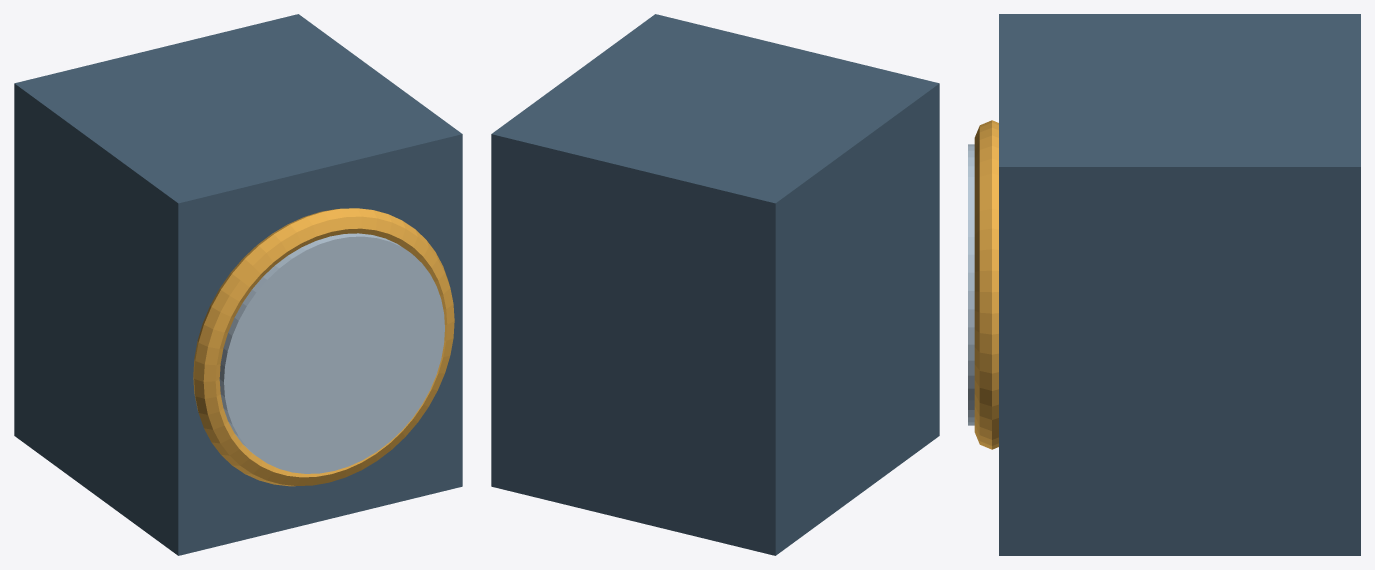
The model's file is 81_L92_VacuumSampleAirlock.fbx.
3 renders of one model, left to right at view 1: azimuth 30°, elevation 25°; view 2: azimuth 150°, elevation 25°; view 3: azimuth 270°, elevation 25°, orthographic. The views are drawn at different scales.
Visible parts, largest first — view 1: L92_VacuumSampleAirlock, L92_VacuumSampleAirlock_Part_0002, L92_VacuumSampleAirlock_Part_0001; view 2: L92_VacuumSampleAirlock; view 3: L92_VacuumSampleAirlock, L92_VacuumSampleAirlock_Part_0001, L92_VacuumSampleAirlock_Part_0002.
Part boxes in pixels (box(x1,y1,x2,y2)): L92_VacuumSampleAirlock: box(14, 14, 462, 555); L92_VacuumSampleAirlock_Part_0002: box(219, 233, 444, 473); L92_VacuumSampleAirlock_Part_0001: box(193, 208, 454, 486); L92_VacuumSampleAirlock: box(491, 14, 939, 555); L92_VacuumSampleAirlock: box(999, 14, 1360, 555); L92_VacuumSampleAirlock_Part_0001: box(974, 120, 998, 449); L92_VacuumSampleAirlock_Part_0002: box(968, 144, 974, 425).
Bounding box in the file's own units: 270 × 320 × 293.
